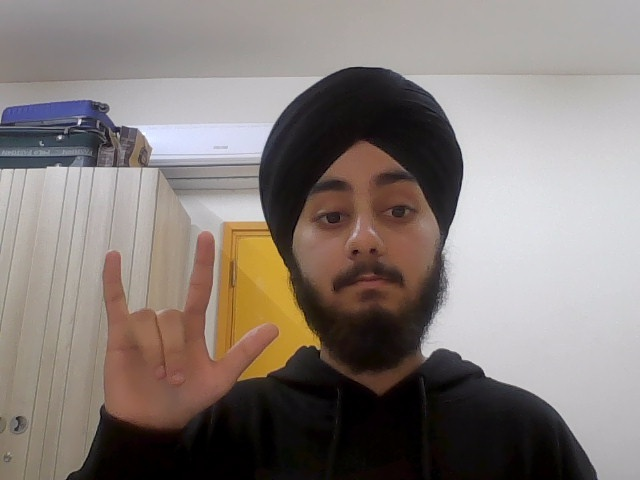ILoveYou: (94, 225, 281, 431)
